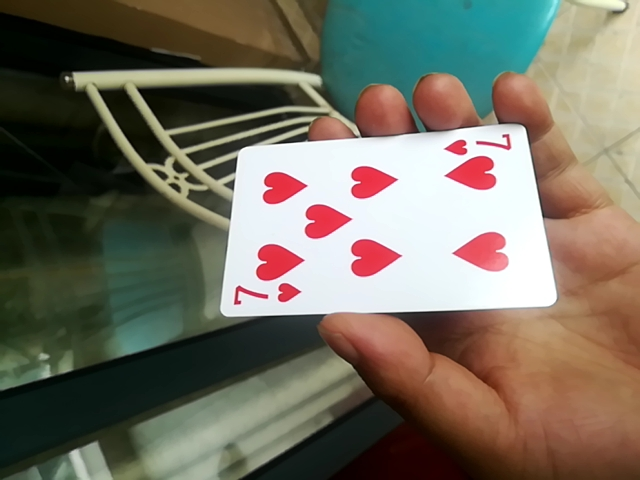hx 7: (215, 125, 553, 320)
